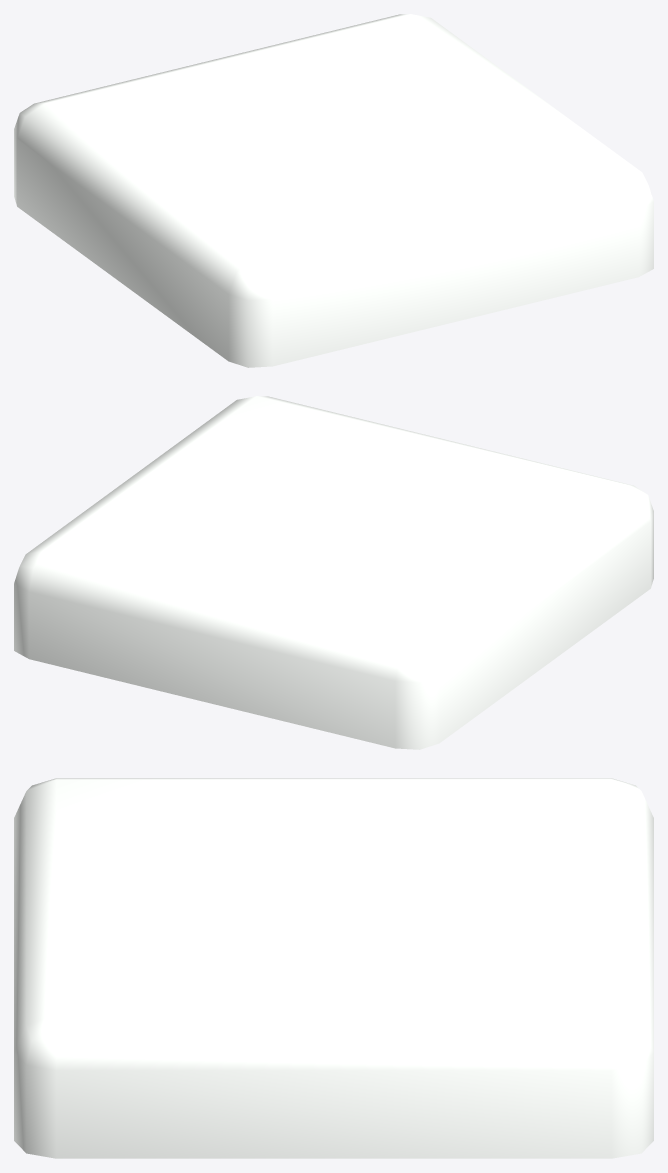
The model's file is button_square_white.glb.
3 renders of one model, top to bottom at view 1: azimuth 30°, elevation 25°; view 2: azimuth 150°, elevation 25°; view 3: azimuth 270°, elevation 25°, orthographic. The views are drawn at different scales.
Parts seen in each view (by area): view 1: Squareutton.012; view 2: Squareutton.012; view 3: Squareutton.012.
Part boxes in pixels (left/top/right/bottom): Squareutton.012: left=14, top=14, right=653, bottom=367; Squareutton.012: left=14, top=396, right=653, bottom=749; Squareutton.012: left=14, top=778, right=653, bottom=1158.
Size of what is drawn, in the model's own units: 0.1845 by 0.0403 by 0.1845.
1 material, 1 textured.
